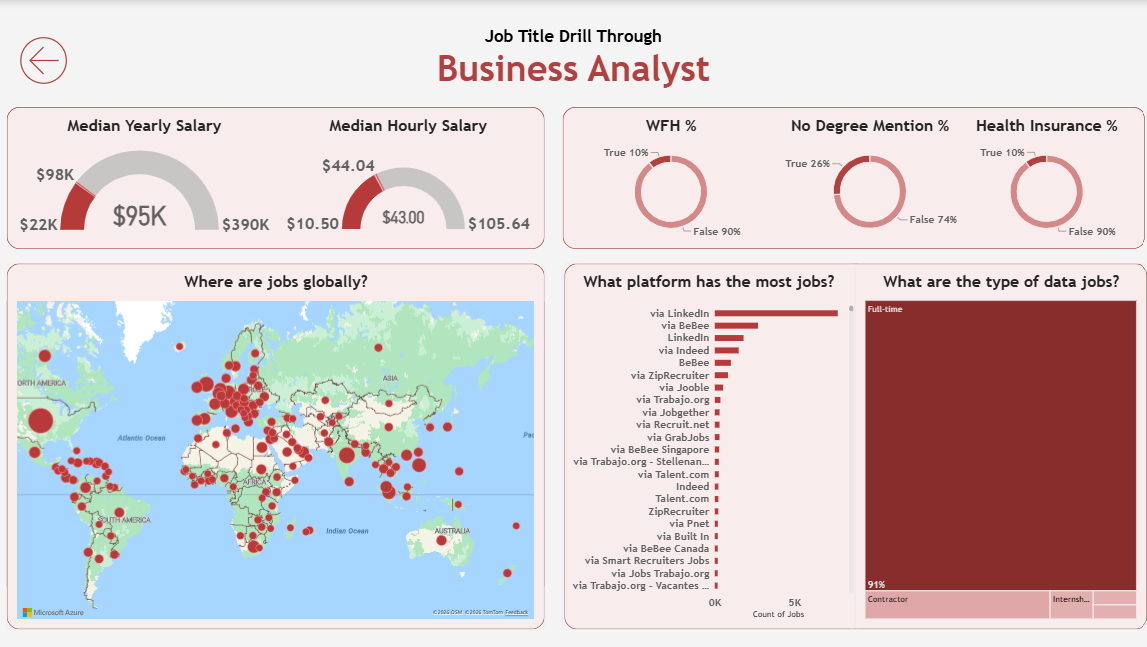

Layout of this report page (visuals, bound fields, positions):
{"tool":"powerbi","page":{"name":"Job Title Drill Through","canvas":[1920,1080],"ordinal":1},"visuals":[{"type":"cardVisual","fields":{"Data":["Min(job_postings_flat.job_title_short)"]},"box":[605,17.5,710,167.5],"z":0},{"type":"actionButton","box":[0,17.5,145,167.5],"z":1000},{"type":"shape","box":[10,177.5,896.7,236.7],"z":2000},{"type":"gauge","title":"Median Yearly Salary ","fields":{"MaxValue":["Max(job_postings_flat.salary_year_avg)2"],"MinValue":["Min(job_postings_flat.salary_year_avg)1"],"TargetValue":["Avg(job_postings_flat.salary_year_avg)3"],"Y":["Median(job_postings_flat.salary_year_avg)"]},"box":[10,177.5,458.3,236.7],"z":3000},{"type":"gauge","title":"Median Hourly Salary ","fields":{"MaxValue":["Max(job_postings_flat.salary_hour_avg)2"],"MinValue":["Min(job_postings_flat.salary_hour_avg)1"],"TargetValue":["Avg(job_postings_flat.salary_hour_avg)3"],"Y":["Median(job_postings_flat.salary_hour_avg)"]},"box":[457.5,177.5,448.3,236.7],"z":4000},{"type":"shape","box":[938.2,178,972.5,236.2],"z":5000},{"type":"donutChart","title":"WFH %","fields":{"Category":["job_postings_flat.job_work_from_home"],"Y":["CountNonNull(job_postings_flat.job_work_from_home)"]},"box":[952.2,178.6,332.9,237.1],"z":6000},{"type":"donutChart","title":"No Degree Mention %","fields":{"Category":["job_postings_flat.job_no_degree_mention"],"Y":["CountNonNull(job_postings_flat.job_no_degree_mention)"]},"box":[1285,178.6,332.9,237.1],"z":7000},{"type":"donutChart","title":"Health Insurance %","fields":{"Category":["job_postings_flat.job_health_insurance"],"Y":["CountNonNull(job_postings_flat.job_health_insurance)"]},"box":[1579.3,178.6,332.9,237.1],"z":8000},{"type":"shape","box":[10,440,896.7,610],"z":9000},{"type":"azureMap","title":"Where are jobs globally?","fields":{"Category":["job_postings_flat.job_country"],"Size":["CountNonNull(job_postings_flat.job_title_short)"]},"box":[10,440,896.7,610],"z":10000},{"type":"shape","box":[940,440,973.3,610],"z":10500},{"type":"treemap","title":"What are the type of data jobs?","fields":{"Group":["job_postings_flat.job_schedule_type"],"Values":["CountNonNull(job_postings_flat.job_schedule_type)"]},"box":[1425,438.3,486.7,610],"z":11000},{"type":"barChart","title":"What platform has the most jobs?","fields":{"Category":["job_postings_flat.job_via"],"Y":["CountNonNull(job_postings_flat.job_via)"]},"box":[938.3,438.3,486.7,610],"z":12000}]}

Visuals, with their boxes in screenshot pixels (x1, y1, x2, y2), scaled from the page's 1920x1080 canvas onto the 1147x647 screenshot:
cardVisual - Min(job_postings_flat.job_title_short): box(361, 10, 786, 111)
actionButton: box(0, 10, 87, 111)
shape: box(6, 106, 542, 248)
"Median Yearly Salary " gauge: box(6, 106, 280, 248)
"Median Hourly Salary " gauge: box(273, 106, 541, 248)
shape: box(560, 107, 1141, 248)
"WFH %" donutChart: box(569, 107, 768, 249)
"No Degree Mention %" donutChart: box(768, 107, 967, 249)
"Health Insurance %" donutChart: box(943, 107, 1142, 249)
shape: box(6, 264, 542, 629)
"Where are jobs globally?" azureMap: box(6, 264, 542, 629)
shape: box(562, 264, 1143, 629)
"What are the type of data jobs?" treemap: box(851, 263, 1142, 628)
"What platform has the most jobs?" barChart: box(561, 263, 851, 628)
